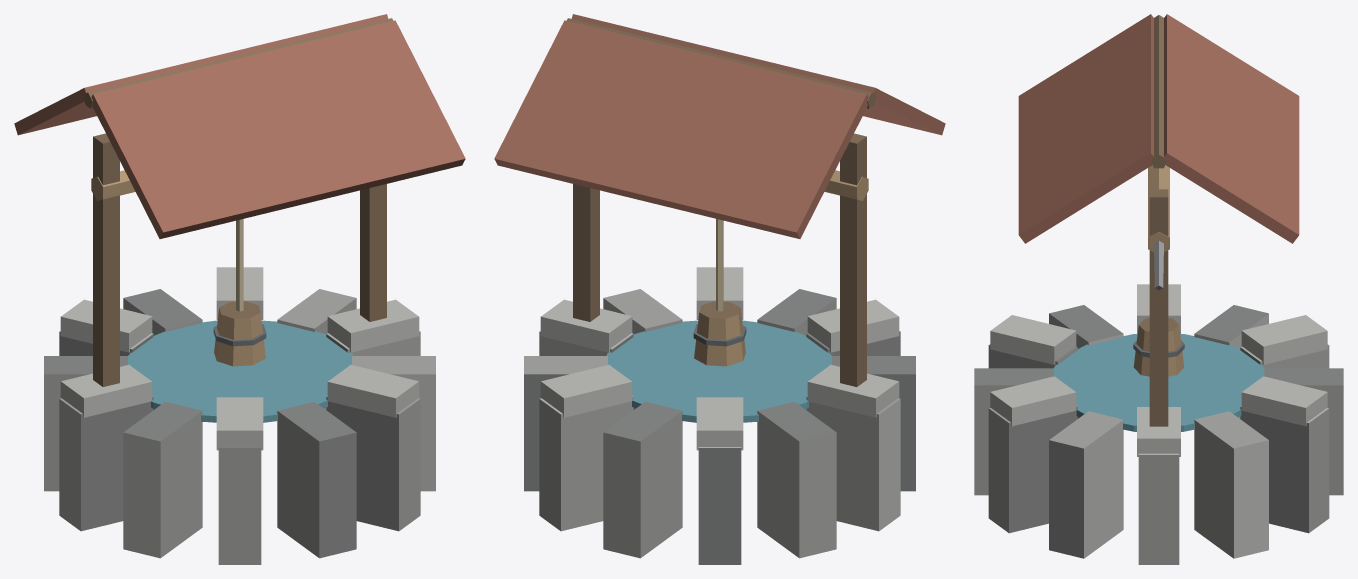
The model's file is well.glb.
3 renders of one model, left to right at view 1: azimuth 30°, elevation 25°; view 2: azimuth 150°, elevation 25°; view 3: azimuth 270°, elevation 25°, orthographic. The views are drawn at different scales.
Parts seen in each view (by area): view 1: well; view 2: well; view 3: well.
Part boxes in pixels (x1,y1,x2,y2): well: (14,14,465,564); well: (494,14,945,564); well: (974,14,1343,564).
Bounding box in the file's own units: 2.31 × 2.64 × 2.19.
